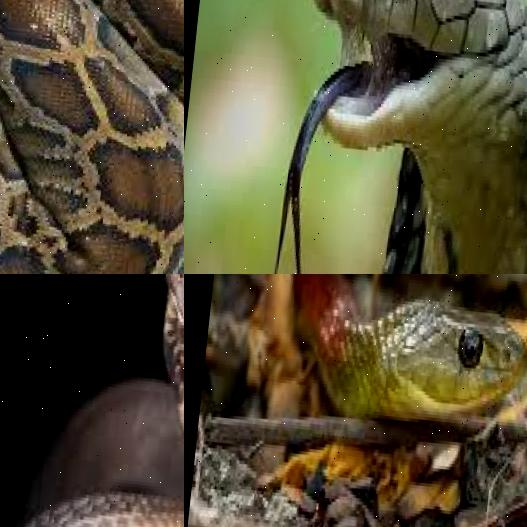1: (7, 274, 184, 527)
2: (202, 274, 527, 447)
5: (230, 0, 527, 274)
snake: (0, 0, 184, 274)
